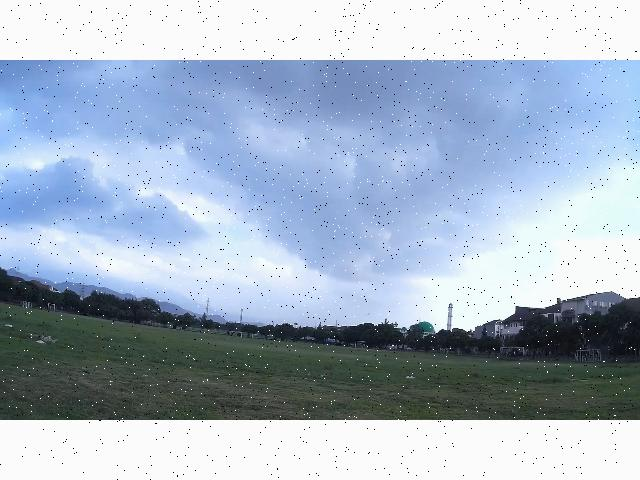Anti-Drone: (360, 307, 382, 322)
